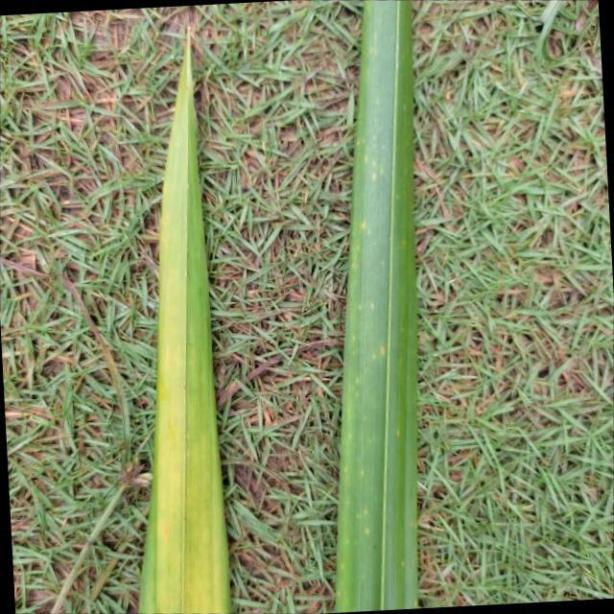nitrogen: (137, 14, 232, 614), (337, 5, 422, 614)
